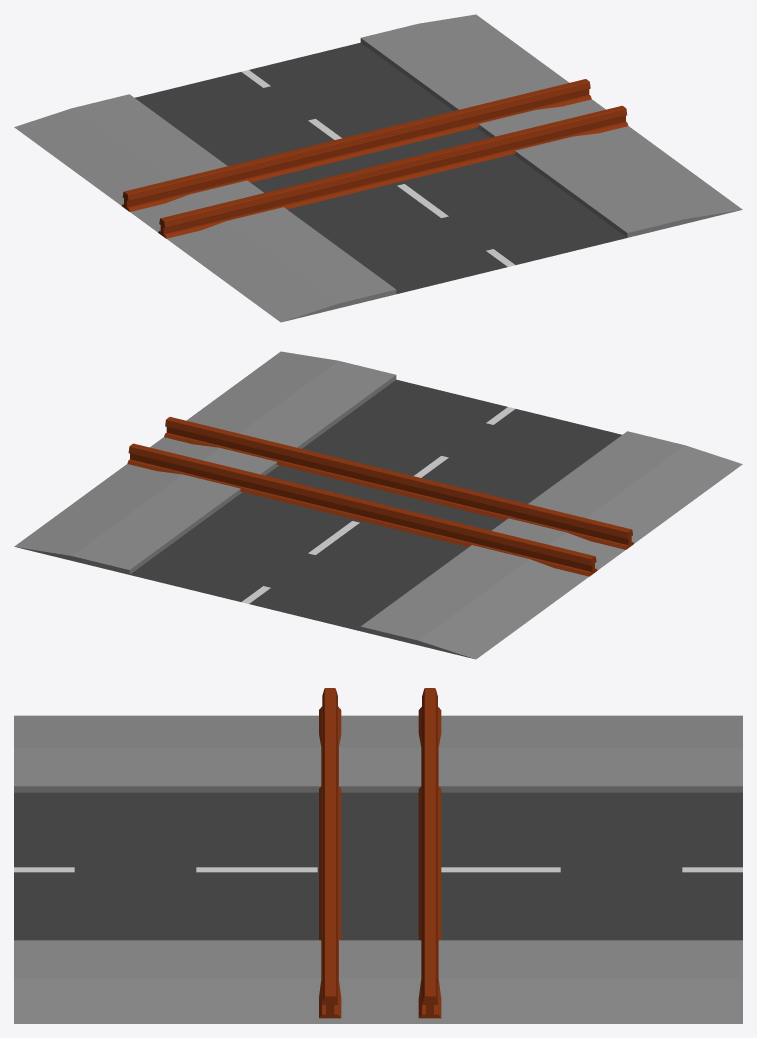
File: road_train_crossing.gltf
3 views of the same model, one above another, from view 1: azimuth 30°, elevation 25°; view 2: azimuth 150°, elevation 25°; view 3: azimuth 270°, elevation 25° (orthographic). The views are drawn at different scales.
Visible parts, largest first — view 1: road crossing, rail crossing; view 2: road crossing, rail crossing; view 3: road crossing, rail crossing.
Boxes of the visible parts, <box> form: road crossing: <box>14,14,742,322</box>; rail crossing: <box>122,79,628,238</box>; road crossing: <box>14,351,742,659</box>; rail crossing: <box>127,417,633,576</box>; road crossing: <box>14,715,742,1023</box>; rail crossing: <box>319,688,441,1018</box>.
Size of the model in its own units: 20.13 by 0.7776 by 20.
